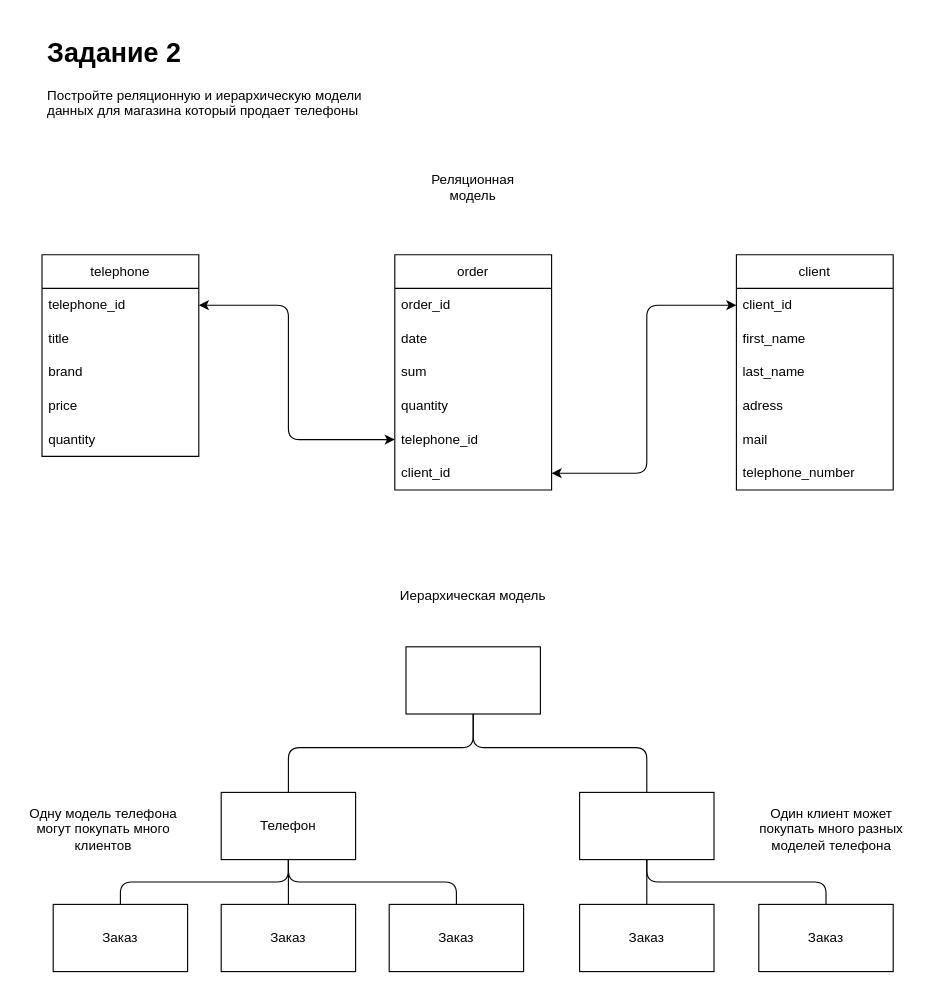
The diagram is 934 pixels wide and 991 high, and some of its shapes have lost their labels. The box of each missing label's shape, as (x1, y1, x2, y2) in pixels:
Клиент: (578, 791, 714, 860)
Магазин: (405, 646, 540, 714)
